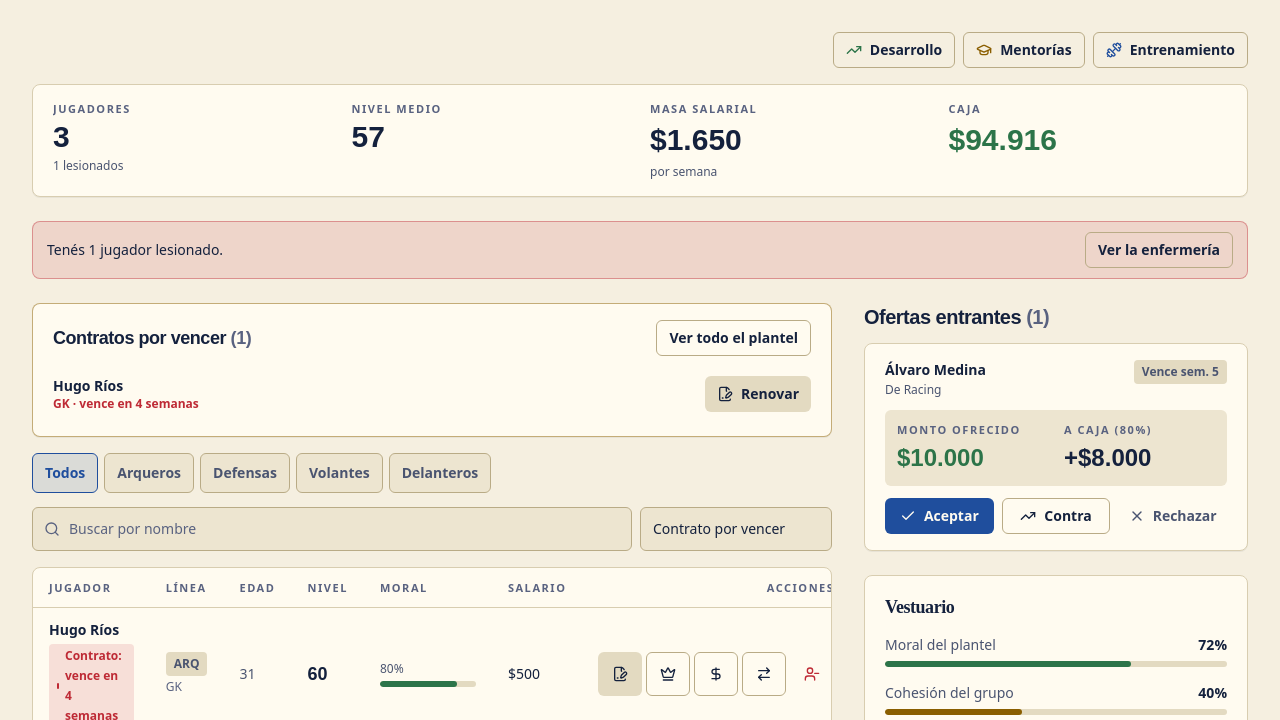
Test: pantalla Plantel › se puede volver a ver todo el plantel y el aviso no aparece si se entra por otro lado
Click the button "Ver todo el plantel". click: (734, 338)
box: [656, 320, 811, 356]
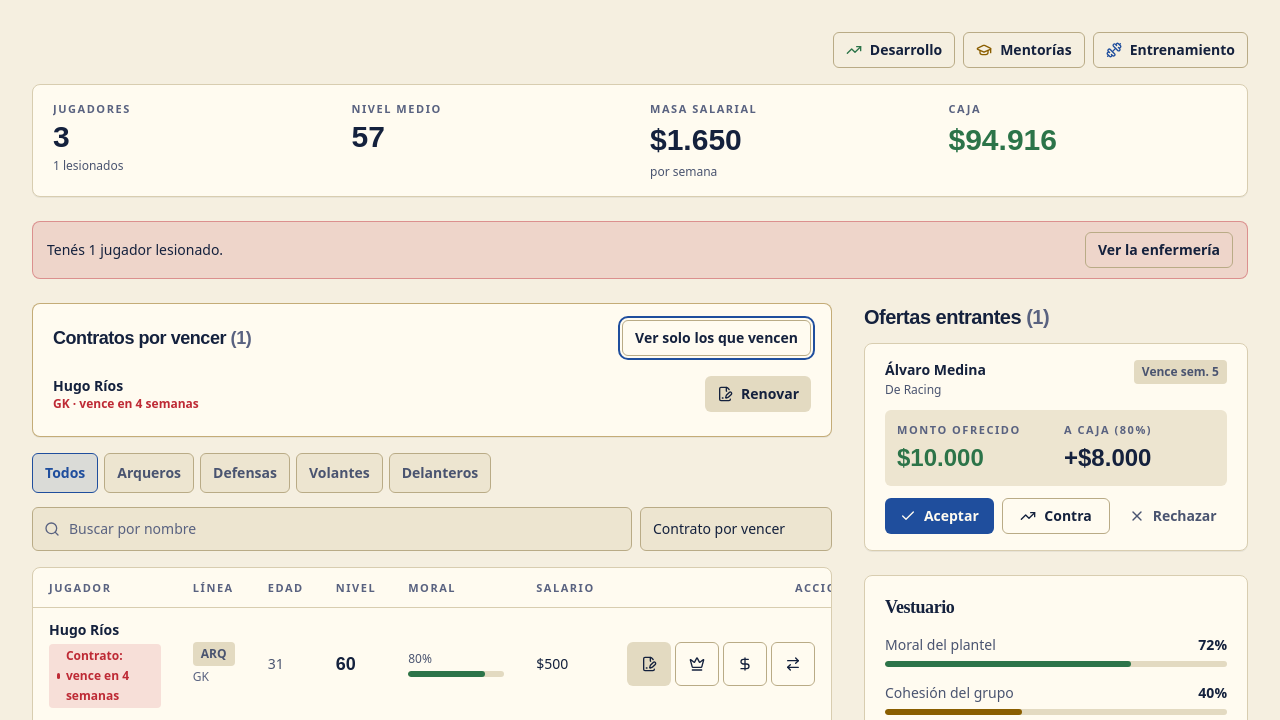
Now the button "Ver solo los que vencen" is shown, box [622, 320, 811, 356]
